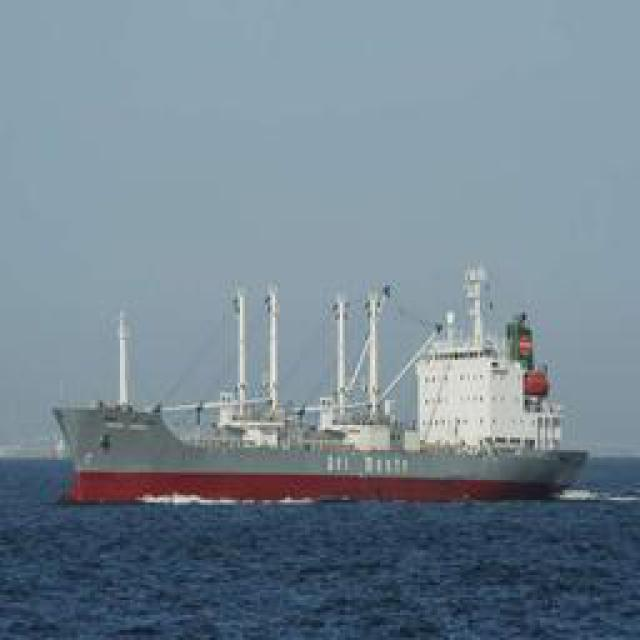Ship: (46, 264, 591, 507)
